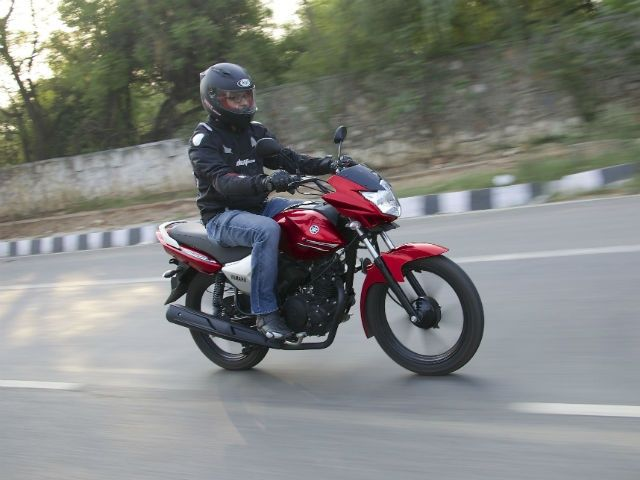helmet: (195, 56, 260, 123)
